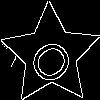O: (25, 29, 84, 89)
